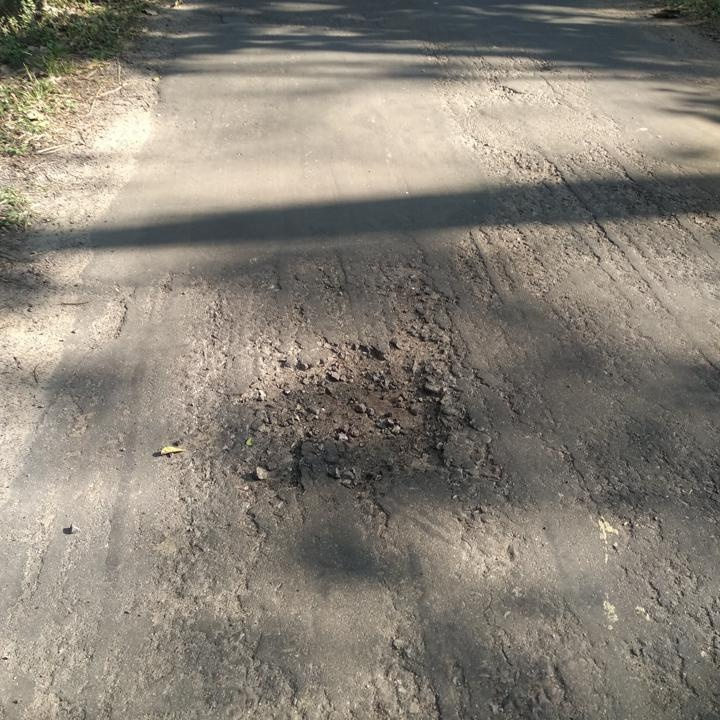pothole: (244, 335, 457, 490)
